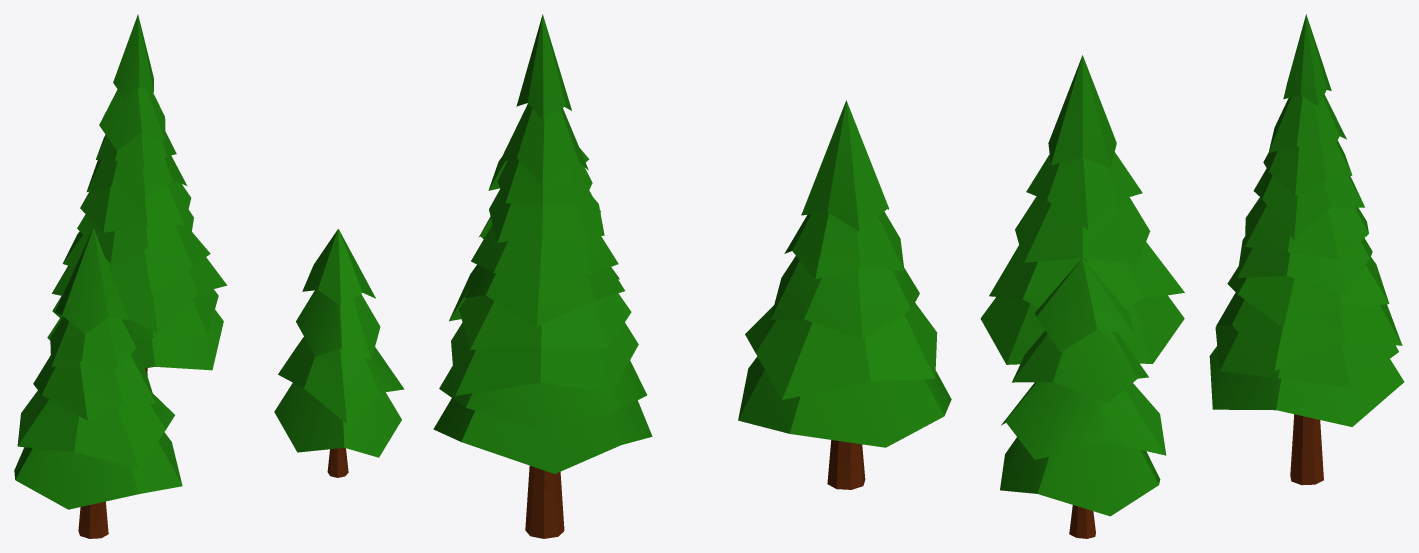
Rendered from es_Pino.obj.
3 renders of one model, left to right at view 1: azimuth 30°, elevation 25°; view 2: azimuth 150°, elevation 25°; view 3: azimuth 270°, elevation 25°, orthographic. The views are drawn at different scales.
Parts seen in each view (by area): view 1: Ramas.002_Ramas, Ramas.002_Tronco; view 2: Ramas.002_Ramas, Ramas.002_Tronco; view 3: Ramas.002_Ramas, Ramas.002_Tronco.
Boxes of the visible parts, left/top/right/bottom form: Ramas.002_Ramas: left=14, top=14, right=404, bottom=509; Ramas.002_Tronco: left=78, top=368, right=348, bottom=538; Ramas.002_Ramas: left=433, top=14, right=951, bottom=473; Ramas.002_Tronco: left=525, top=440, right=865, bottom=538; Ramas.002_Ramas: left=980, top=14, right=1404, bottom=516; Ramas.002_Tronco: left=1069, top=414, right=1323, bottom=538.
Bounding box in the file's own units: 0.7569 × 0.7913 × 0.6539.
